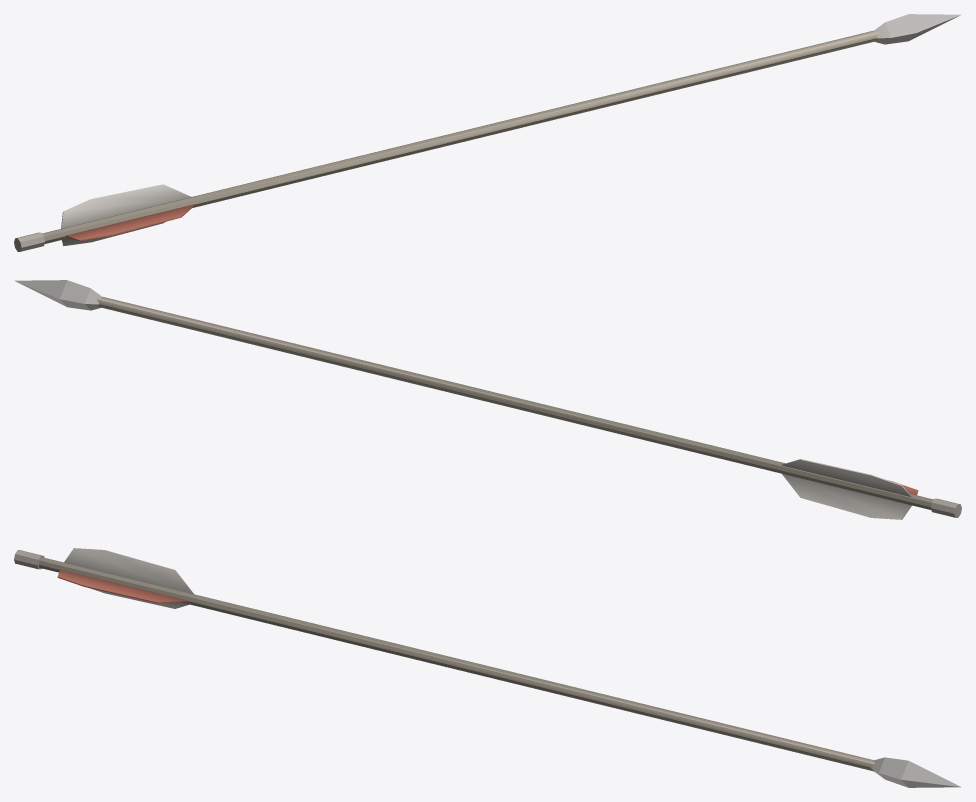
Rendered from arrow.glb.
3 renders of one model, top to bottom at view 1: azimuth 30°, elevation 25°; view 2: azimuth 150°, elevation 25°; view 3: azimuth 330°, elevation 25°, orthographic.
Parts seen in each view (by area): view 1: Body_lod0; view 2: Body_lod0; view 3: Body_lod0.
Part boxes in pixels (x1,y1,x2,y2): Body_lod0: (14,14,961,251); Body_lod0: (14,280,961,519); Body_lod0: (14,548,961,787).
Size of what is drawn, in the model's own units: 0.798 by 0.035 by 0.031.
